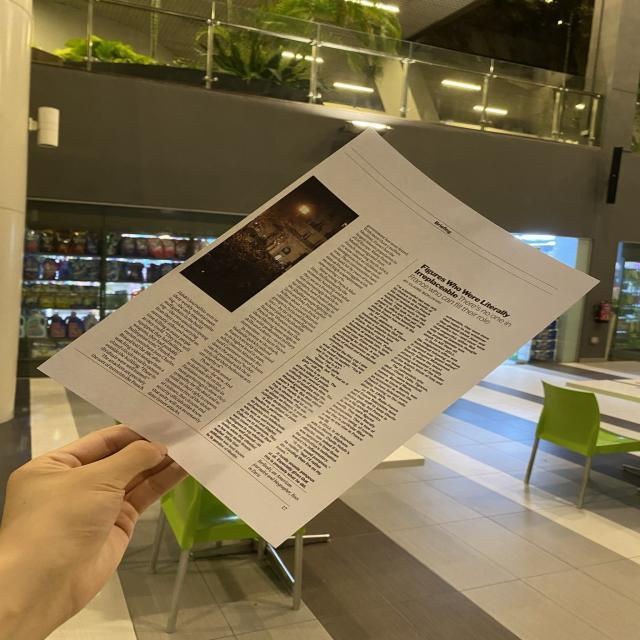document: (40, 130, 597, 545)
